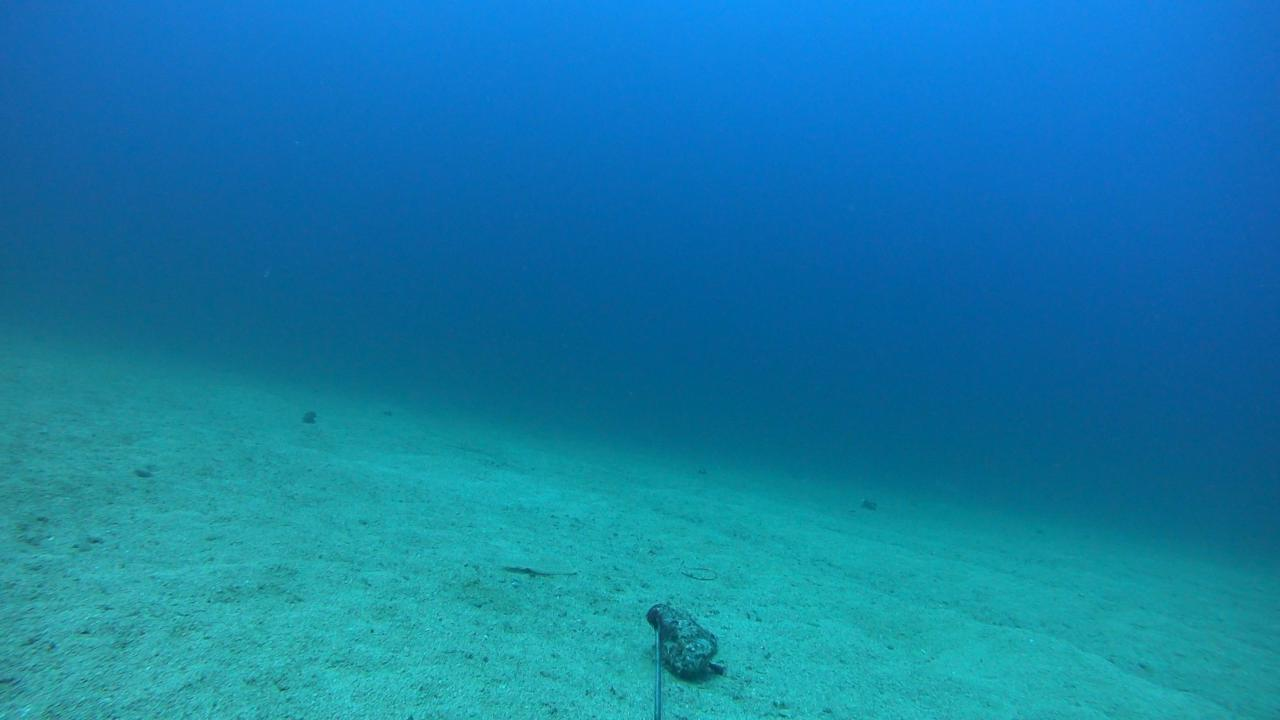bothus: (498, 550, 574, 584)
